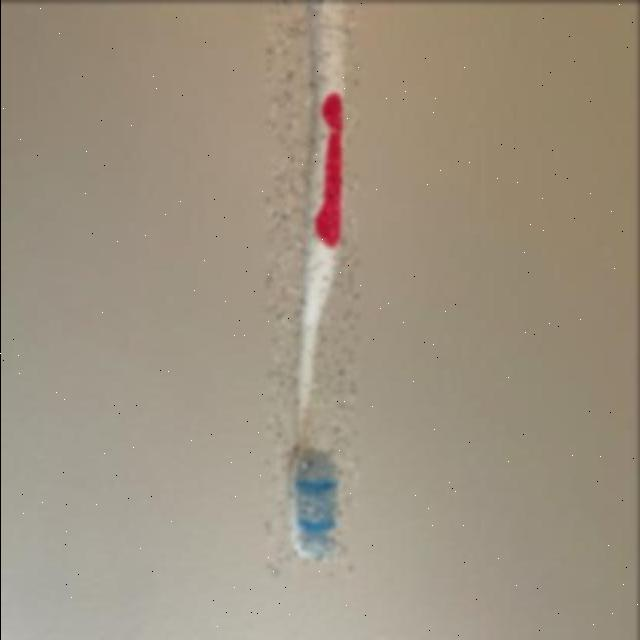toothbrush: (268, 1, 358, 576)
